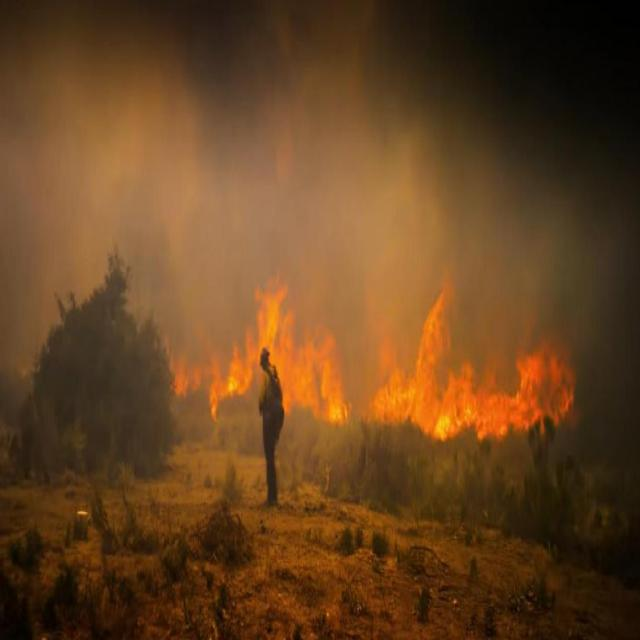fire: (201, 272, 573, 449)
